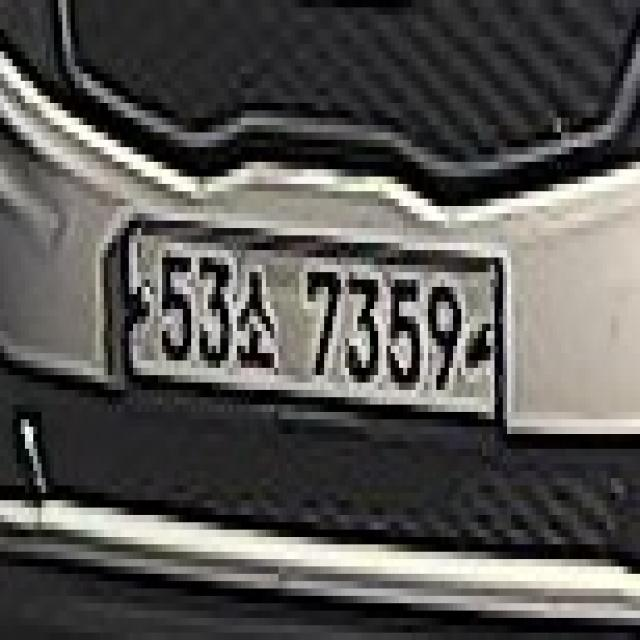3: (195, 243, 237, 390), (345, 272, 391, 390)
5: (154, 242, 199, 382), (386, 258, 424, 398)
7: (287, 242, 349, 382)
9: (432, 272, 462, 390)
license_plate: (112, 221, 520, 434)
so: (225, 258, 282, 375)
